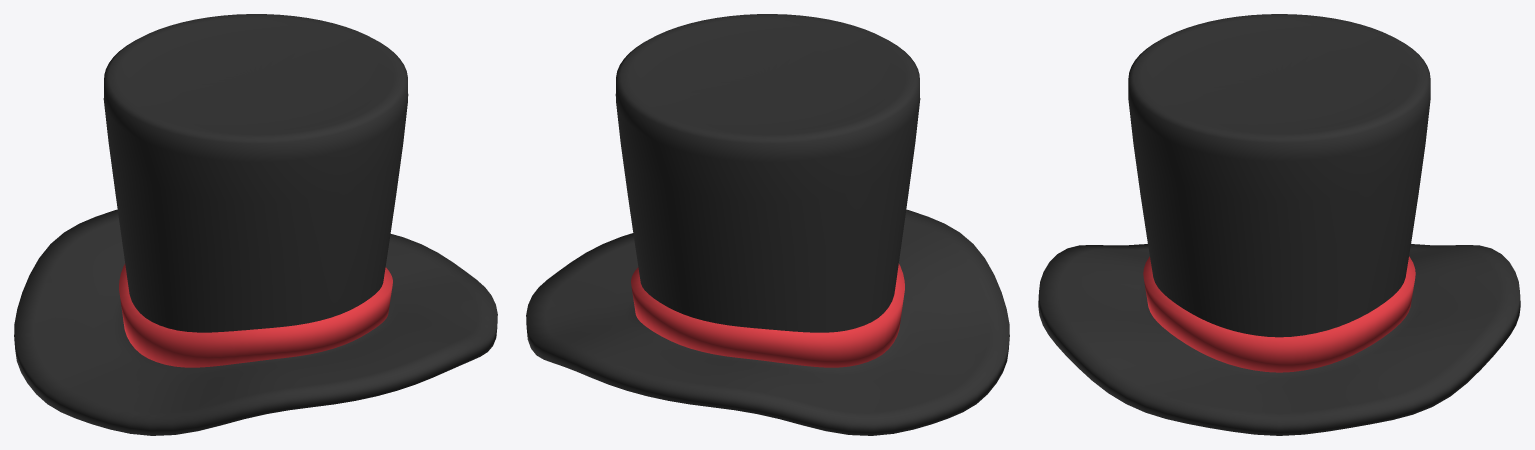
File: TopHat.fbx
3 views of the same model, side by side, from view 1: azimuth 30°, elevation 25°; view 2: azimuth 150°, elevation 25°; view 3: azimuth 270°, elevation 25° (orthographic).
Visible parts, largest first — view 1: Top hat; view 2: Top hat; view 3: Top hat.
Part boxes in pixels (x1,y1,x2,y2): Top hat: [14, 14, 497, 435]; Top hat: [526, 14, 1009, 435]; Top hat: [1038, 14, 1520, 435].
Bounding box in the file's own units: 344 × 217 × 345.
